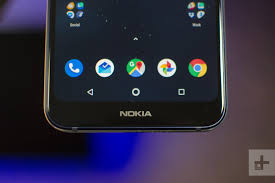nokia: (38, 1, 226, 134)
